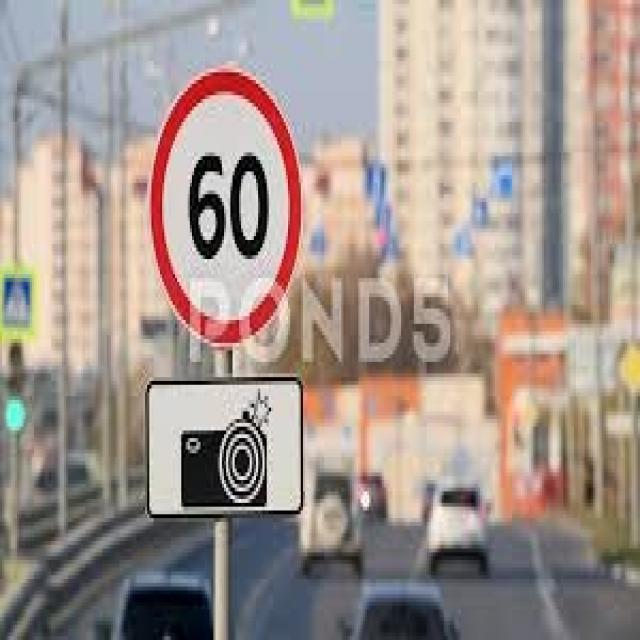speed_limit_60: (146, 63, 302, 355)
